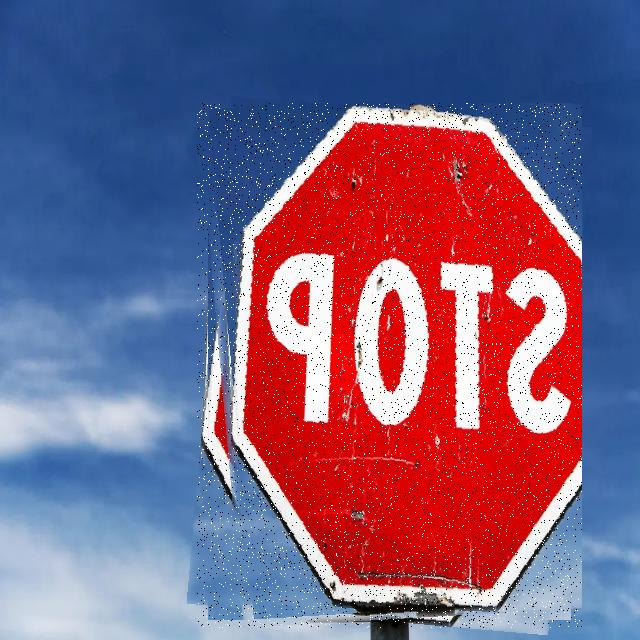stop: (197, 103, 582, 628)
